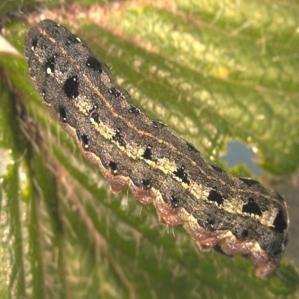Tobacco cutworm: (12, 7, 299, 276)
